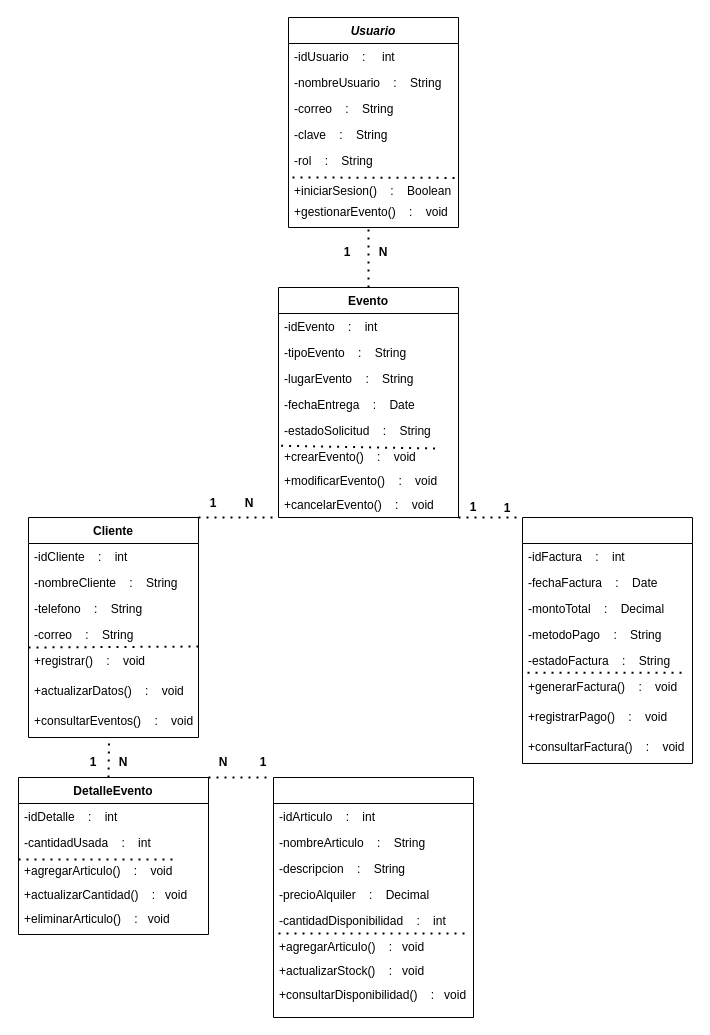
The diagram is 710 pixels wide and 1035 high, and some of its shapes have lost their labels. The shapes that lost their labels are listed below. From the top down, each one's box as (x1, y1, x2, y2) in pixels, then its label:
(522, 516, 692, 764): Facturacion
(272, 776, 474, 1018): Inventario
